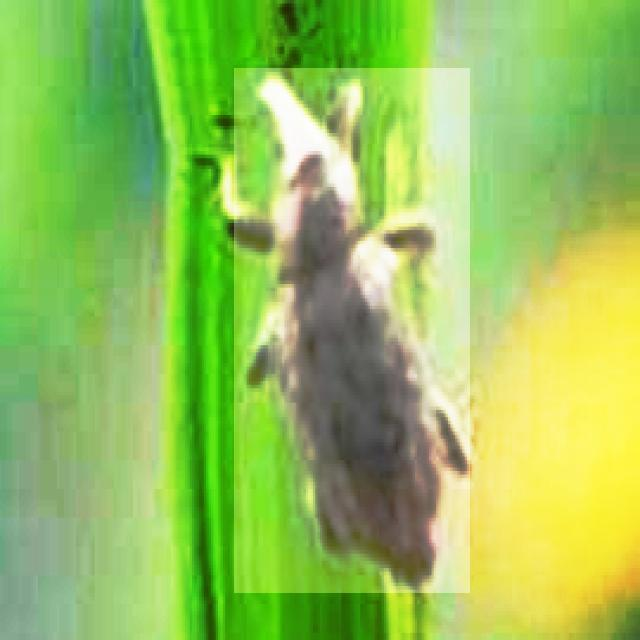rice-bug: (234, 68, 470, 593)
